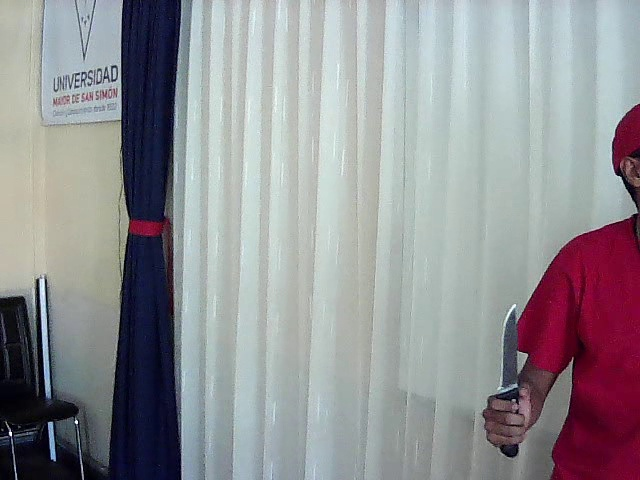cuchillo: (488, 293, 530, 413)
